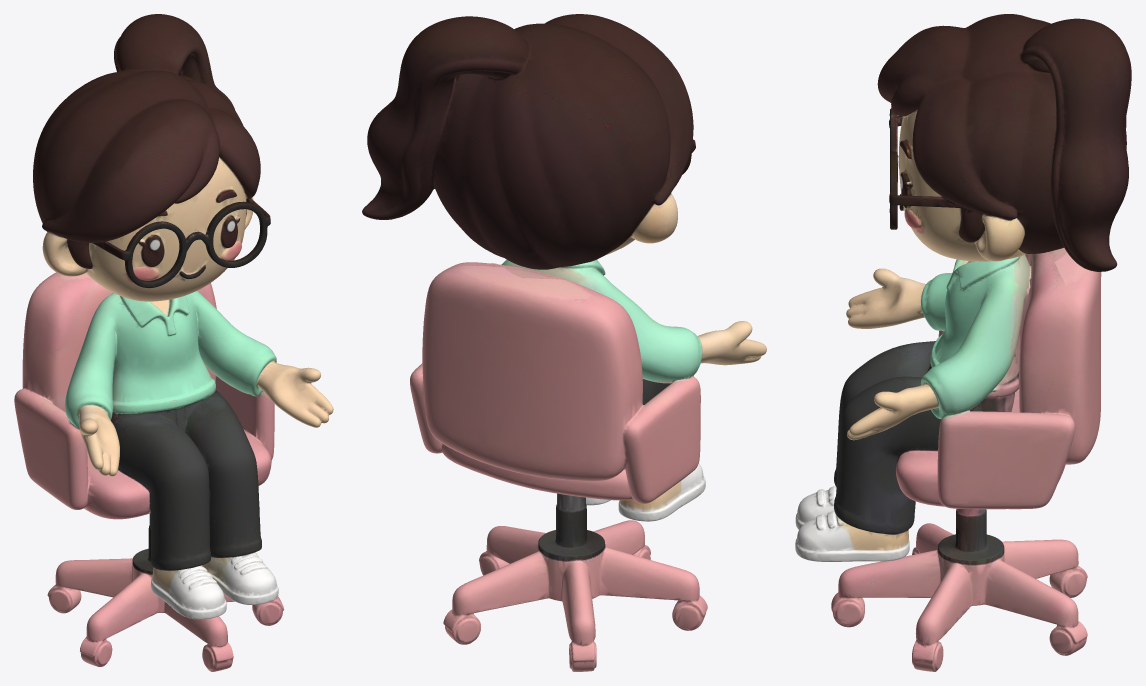
Rendered from seat_mentor.glb.
3 renders of one model, left to right at view 1: azimuth 30°, elevation 25°; view 2: azimuth 150°, elevation 25°; view 3: azimuth 270°, elevation 25°, orthographic. The views are drawn at different scales.
Bounding box in the file's own units: 0.8707 × 1.9 × 0.9311.
Materials: 1 (1 with a texture image).
